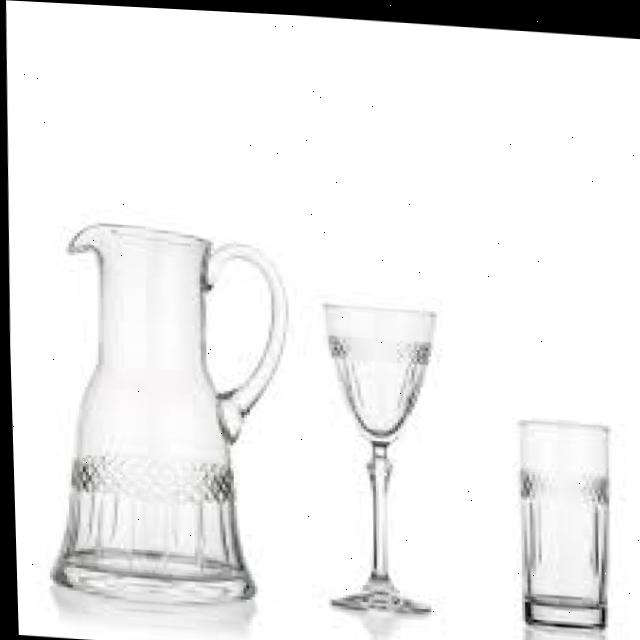Dry: (21, 207, 307, 617), (301, 287, 456, 623), (500, 403, 621, 631)
